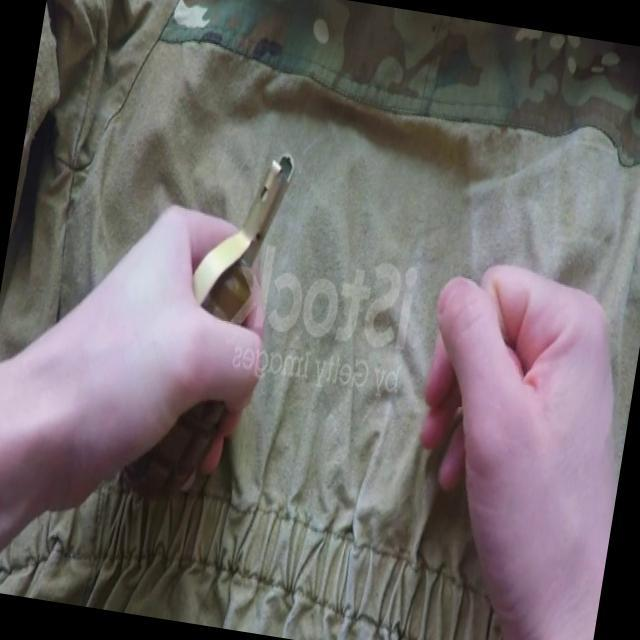grenade: (114, 127, 295, 507)
